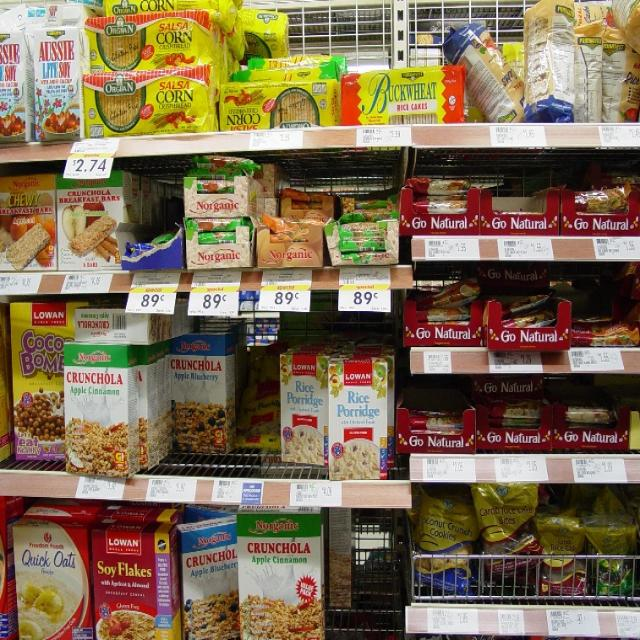q229: (329, 348, 389, 488), (276, 357, 326, 459)
